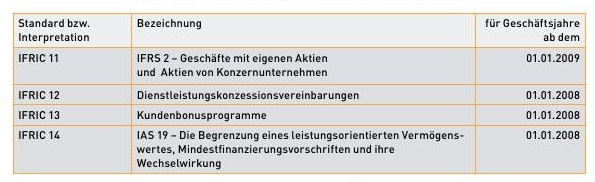table: (0, 0, 595, 182)
